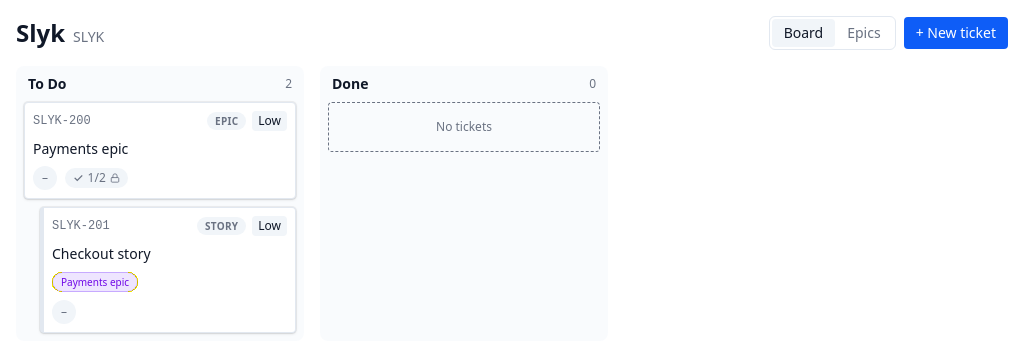
BoardPage — CR-03 hierarchy › CR-03: the Epics view lists epics with completion progress
Step 1. Click the tab "Epics" → x=864, y=33, box [835,19,893,47]
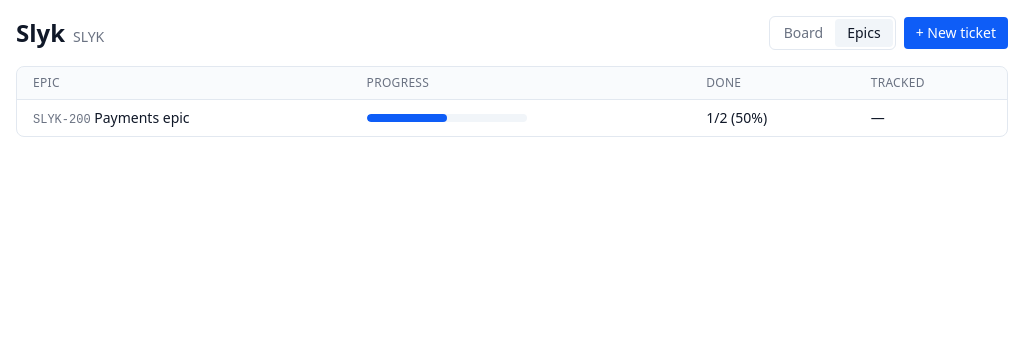
expect the table named "Epics" is shown: met, box [17,67,1007,136]
expect the text "Payments epic" is shown: met, box [94,108,190,127]
expect the text "1/2 (50%)" is shown: met, box [690,100,855,136]
